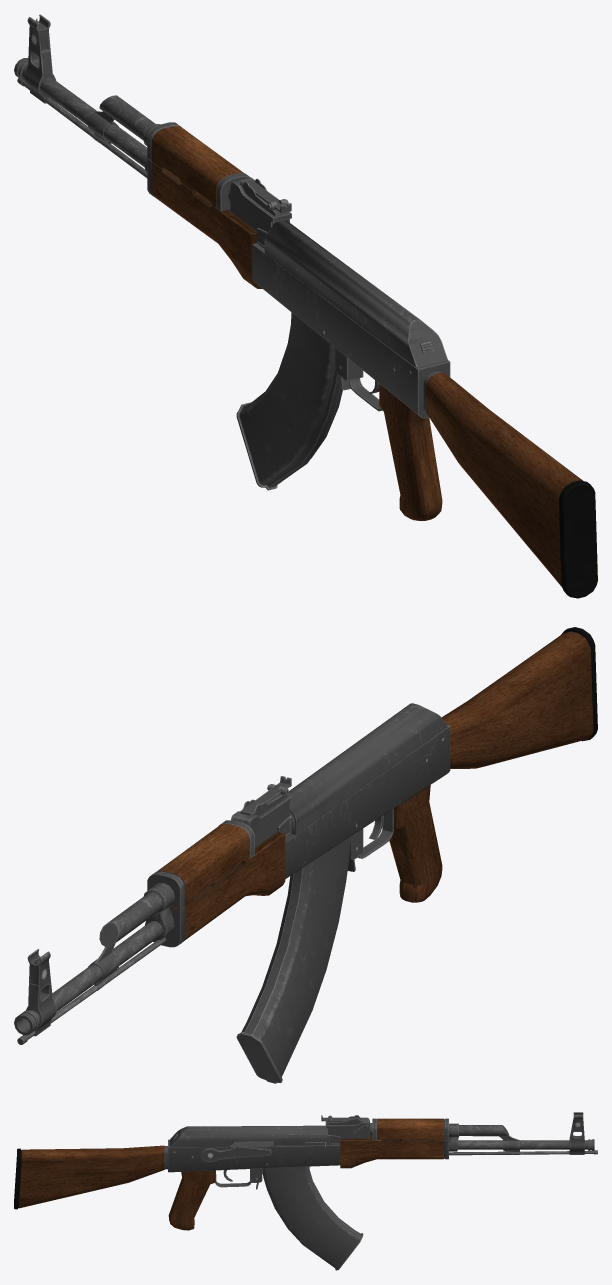
The picture shows the model from 3 angles, top to bottom: view 1: azimuth 30°, elevation 25°; view 2: azimuth 150°, elevation 25°; view 3: azimuth 270°, elevation 25°; orthographic projection. The views are drawn at different scales.
Parts seen in each view (by area): view 1: AK_47, Magazine; view 2: AK_47, Magazine; view 3: AK_47, Magazine, Selector_Switch, Ejection_Port.
Part boxes in pixels (x1=…): AK_47: x1=14, y1=14, x2=597, y2=598; Magazine: x1=236, y1=312, x2=342, y2=490; AK_47: x1=14, y1=627, x2=597, y2=1044; Magazine: x1=236, y1=836, x2=350, y2=1083; AK_47: x1=14, y1=1112, x2=597, y2=1230; Magazine: x1=262, y1=1166, x2=363, y2=1270; Selector_Switch: x1=201, y1=1145, x2=271, y2=1162; Ejection_Port: x1=273, y1=1134, x2=327, y2=1148.
Bounding box in the file's own units: 0.0399 × 0.2582 × 0.8765.
1 material, 1 textured.
